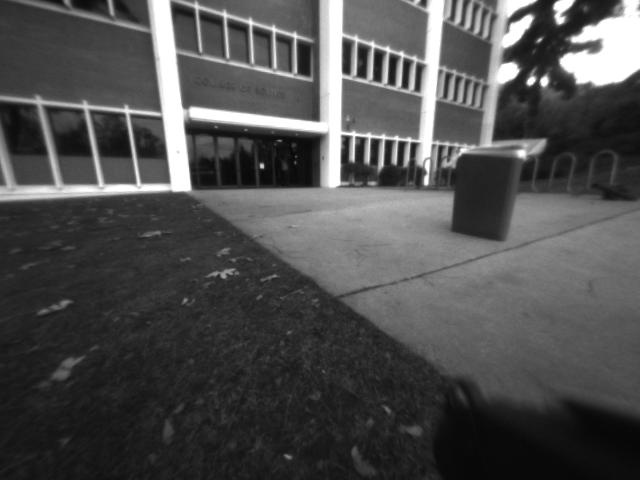trashcan: (443, 138, 540, 250)
